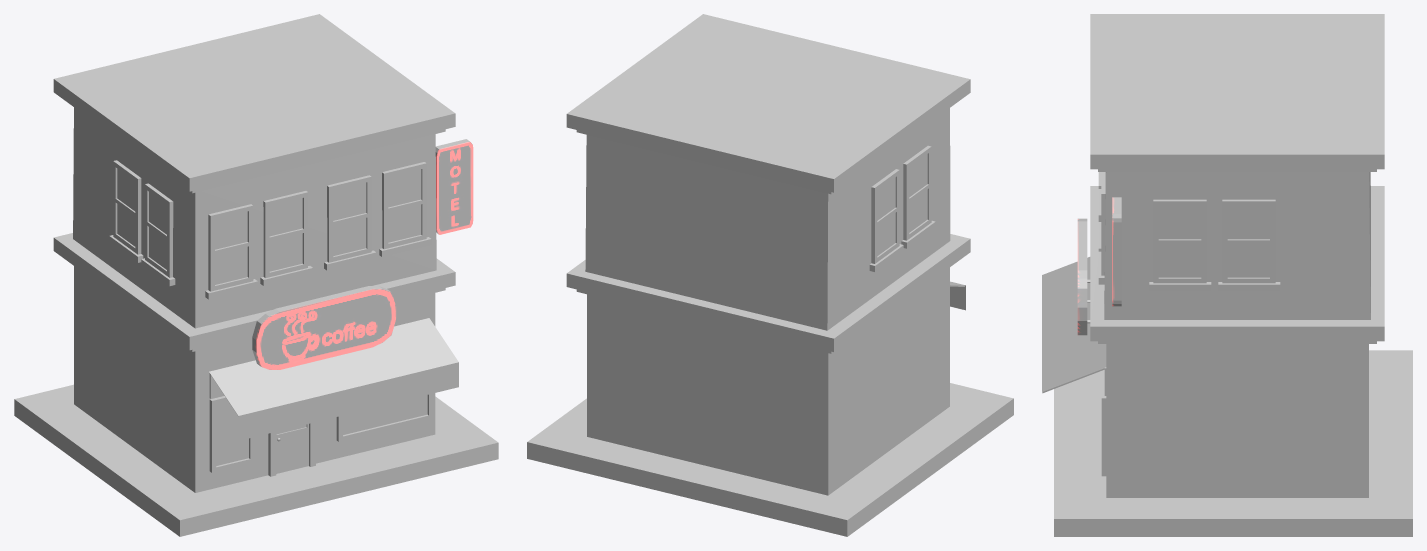
Rendered from building 10.fbx.
3 renders of one model, left to right at view 1: azimuth 30°, elevation 25°; view 2: azimuth 150°, elevation 25°; view 3: azimuth 270°, elevation 25°, orthographic. The views are drawn at different scales.
Visible parts, largest first — view 1: polySurface5; view 2: polySurface5; view 3: polySurface5.
Part boxes in pixels (x1,y1,x2,y2): polySurface5: (14, 14, 498, 536); polySurface5: (527, 14, 1013, 536); polySurface5: (1042, 14, 1412, 536).
Bounding box in the file's own units: 197 × 200 × 182.
